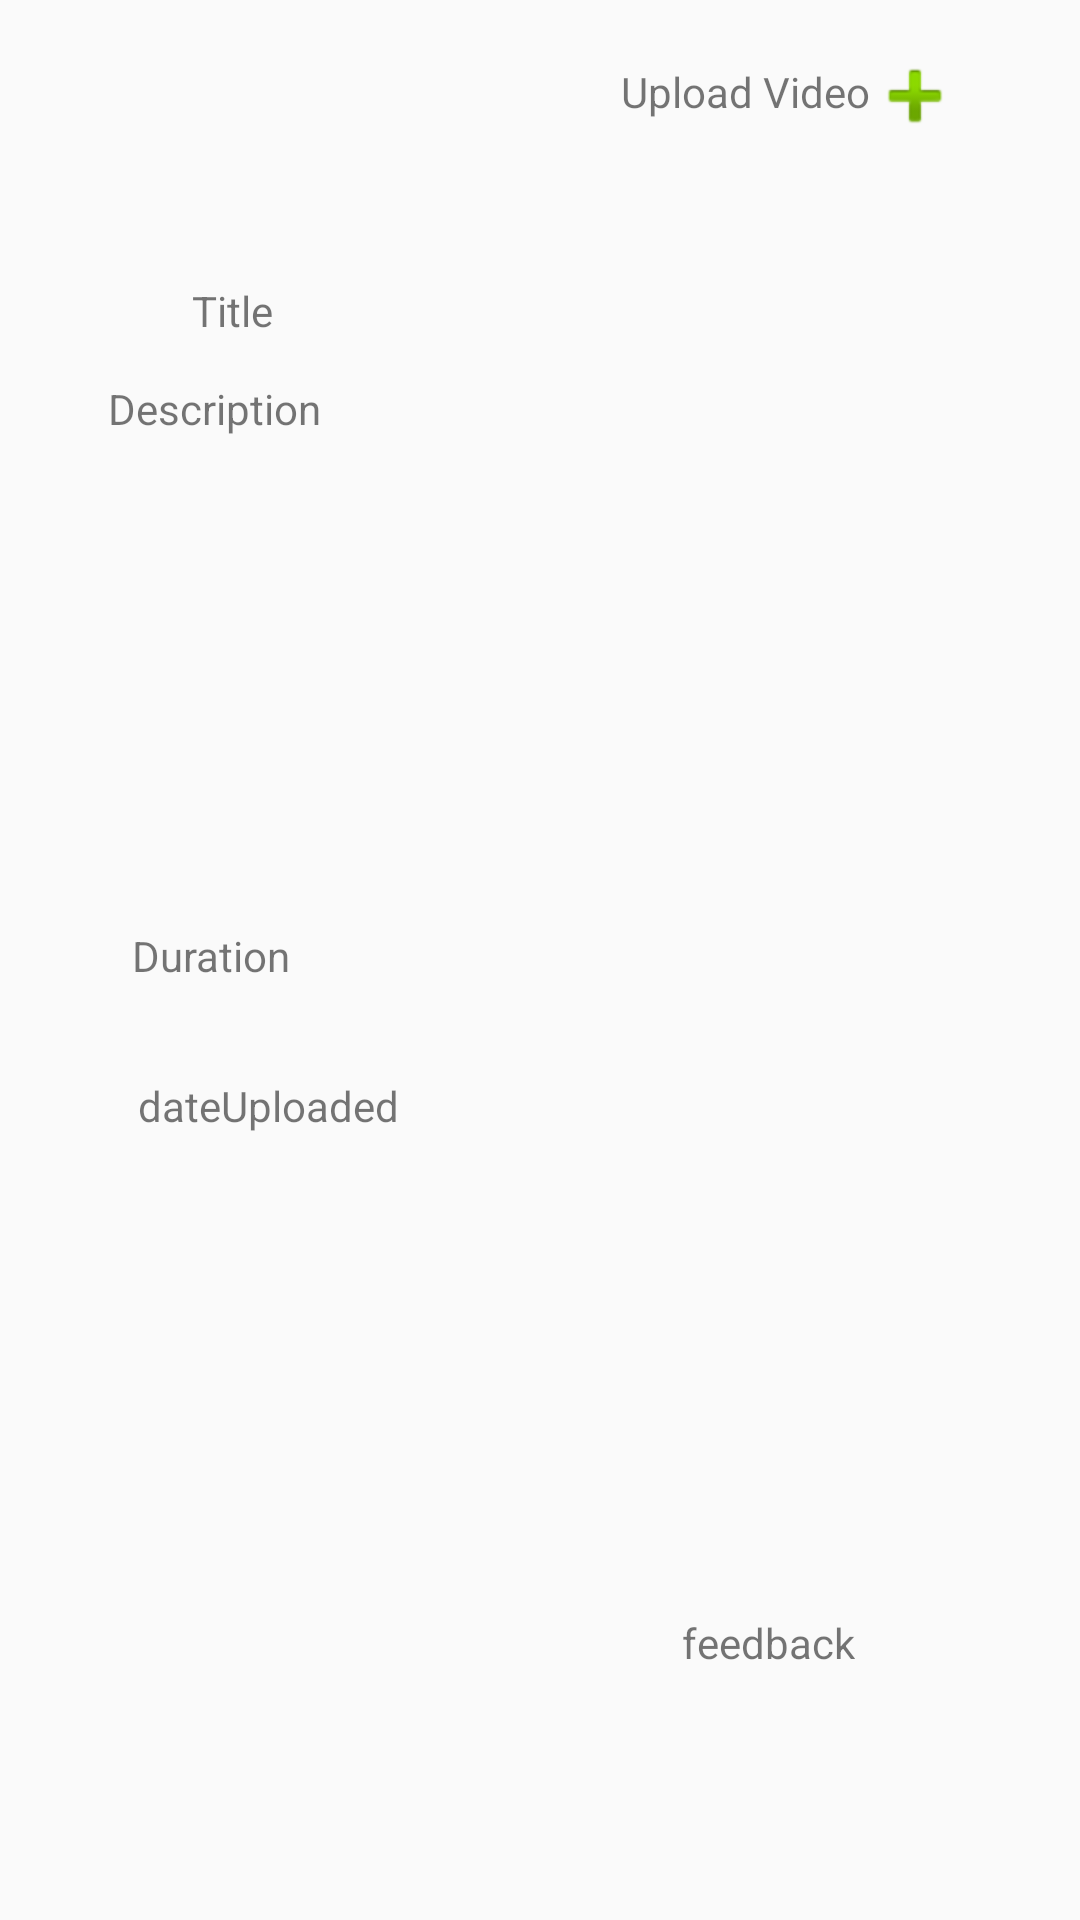

Named icons in this screenshot (1080*1920) and their bounding boxes, (x1, y1, x2, y2):
add: (888, 69, 942, 123)
